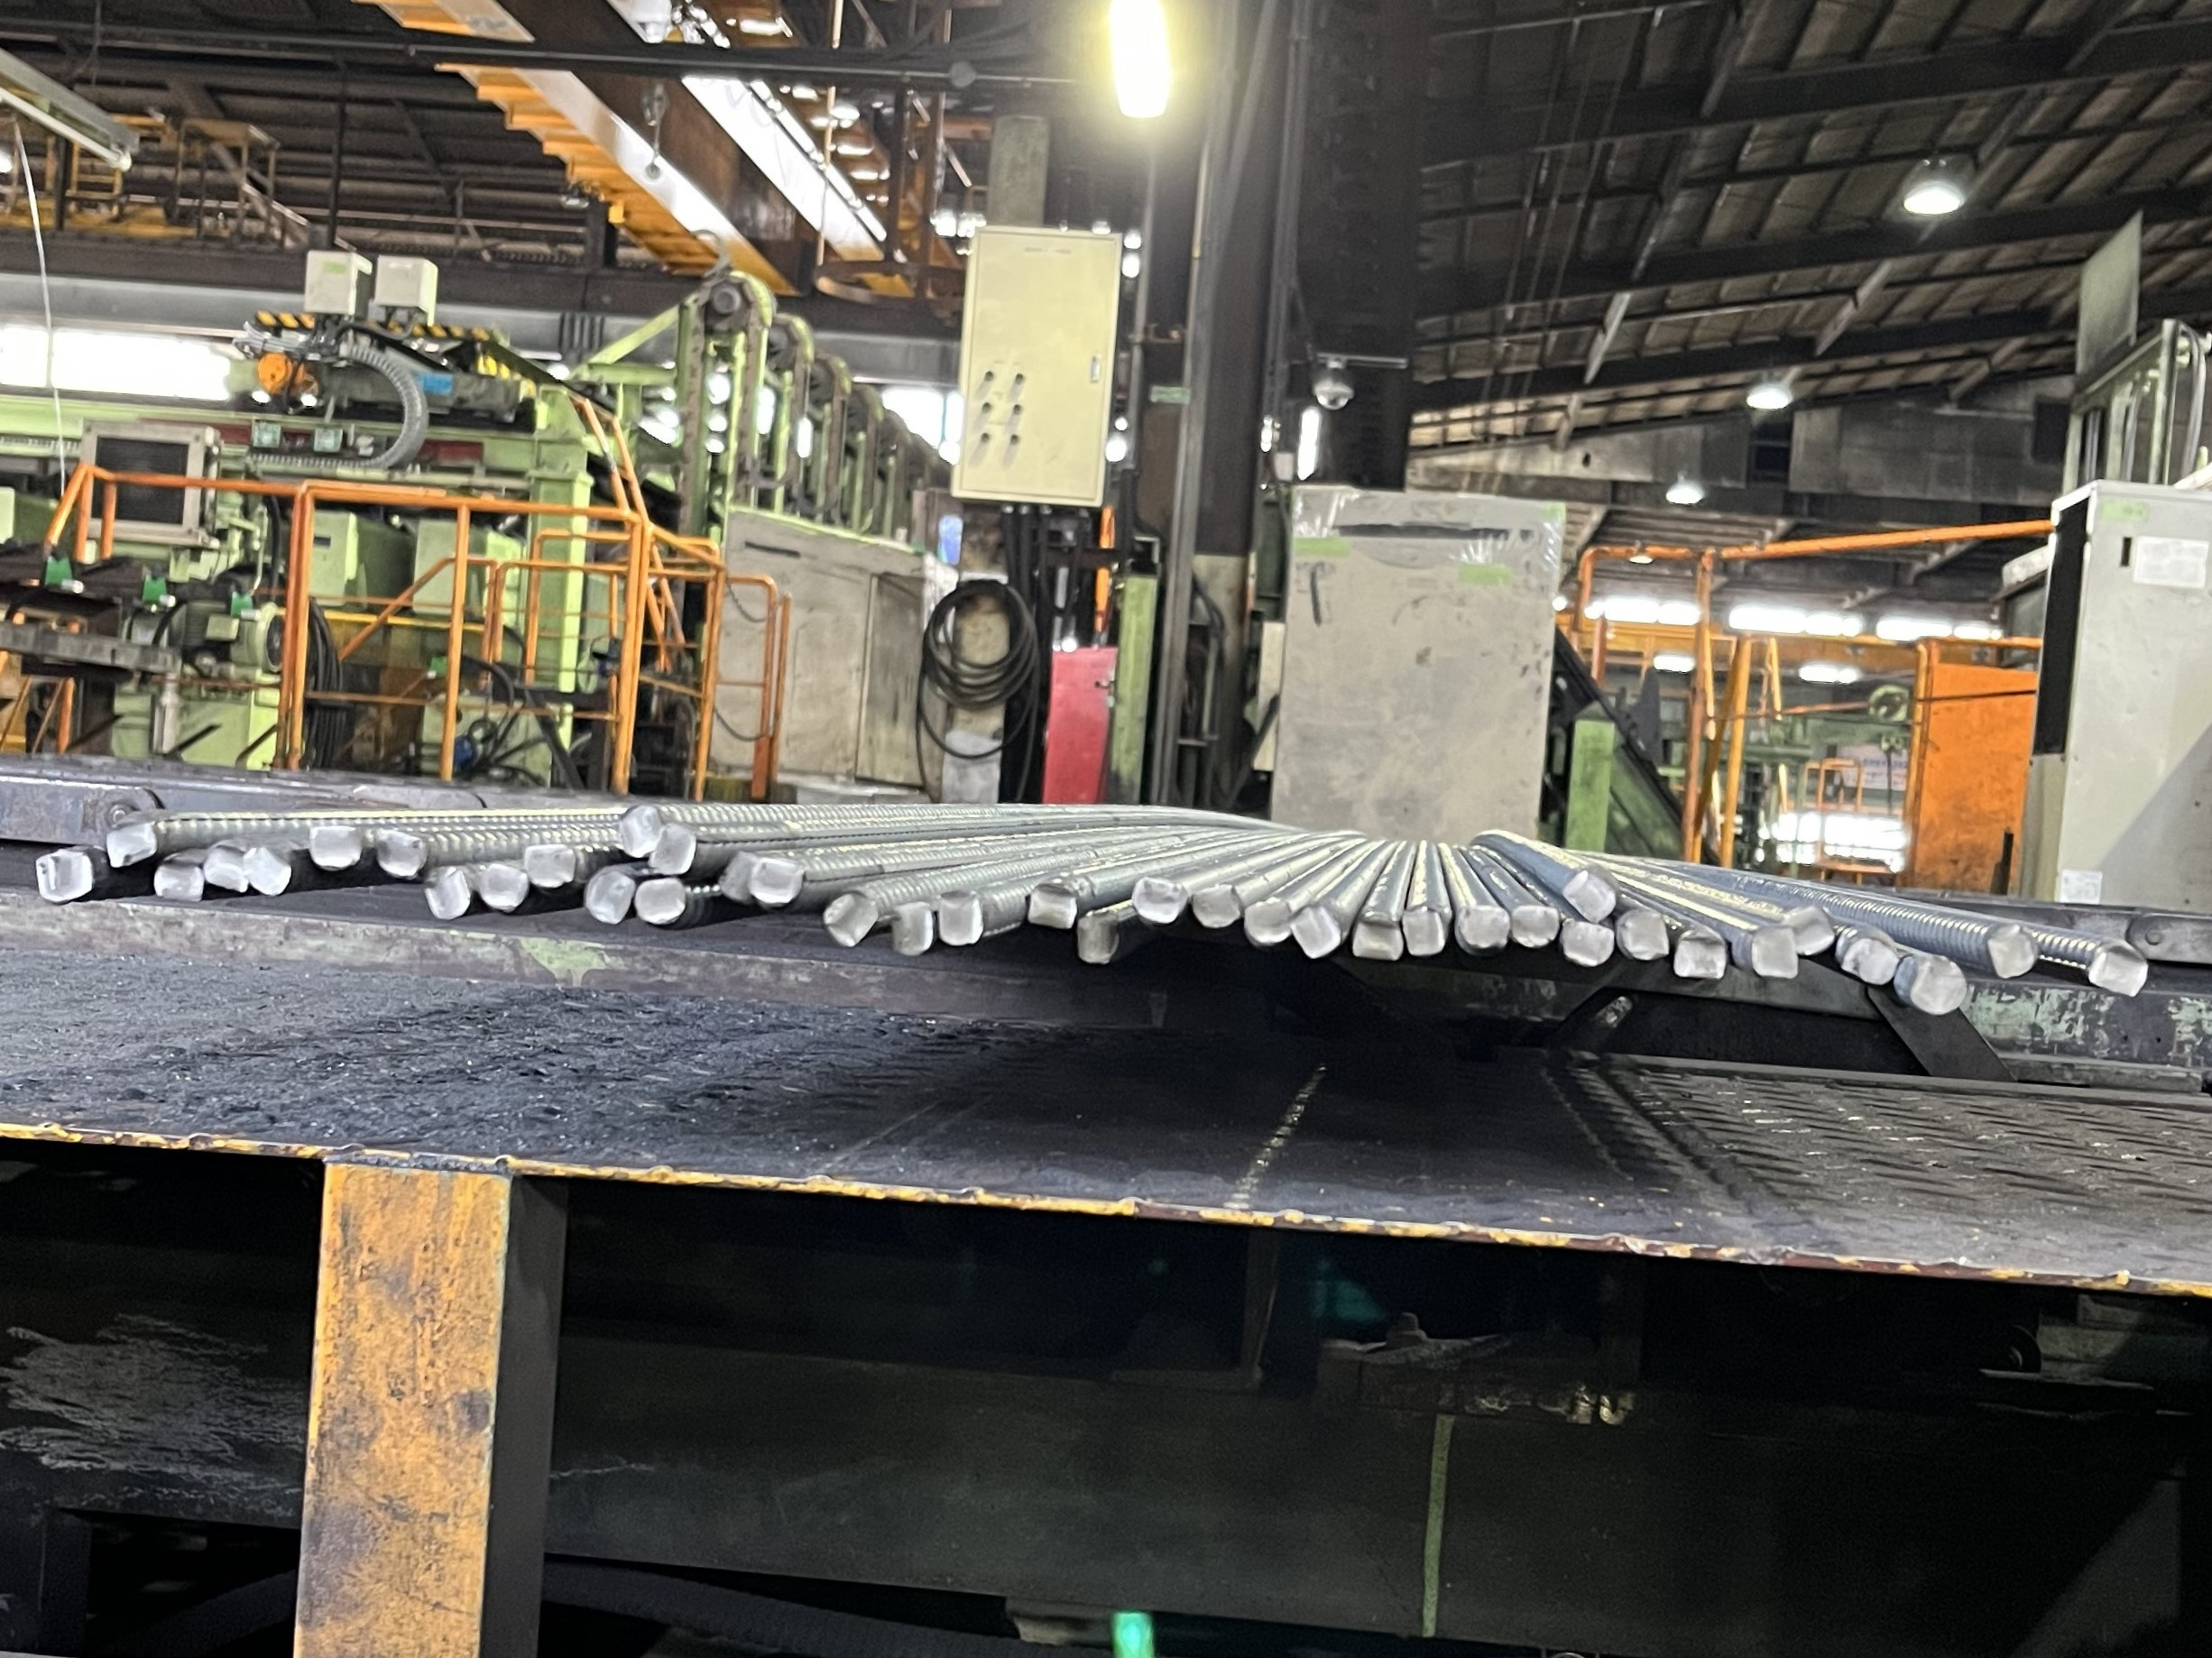rod: (31, 845, 96, 909), (1907, 953, 1970, 1017), (2085, 939, 2151, 998), (820, 890, 881, 947), (1615, 906, 1674, 963), (373, 822, 430, 880), (1987, 921, 2043, 981), (585, 866, 639, 925), (631, 873, 690, 927), (1291, 900, 1345, 960), (1839, 933, 1900, 986), (1454, 902, 1512, 956), (1559, 914, 1616, 968), (1562, 869, 1620, 923), (1670, 928, 1728, 982), (421, 862, 474, 921), (523, 839, 578, 893), (479, 857, 531, 914), (1747, 921, 1799, 979), (935, 888, 986, 947), (240, 845, 294, 899), (105, 817, 160, 869), (1350, 909, 1406, 961), (307, 824, 366, 873), (747, 859, 806, 907), (1130, 876, 1190, 925), (1024, 881, 1078, 932), (1787, 902, 1838, 956), (1075, 909, 1123, 965), (1244, 892, 1291, 949), (890, 900, 935, 960), (646, 824, 698, 874), (1191, 881, 1244, 932), (200, 845, 253, 893), (1510, 900, 1562, 949), (617, 803, 662, 859), (152, 857, 206, 902), (1404, 906, 1447, 960), (718, 848, 758, 906)
